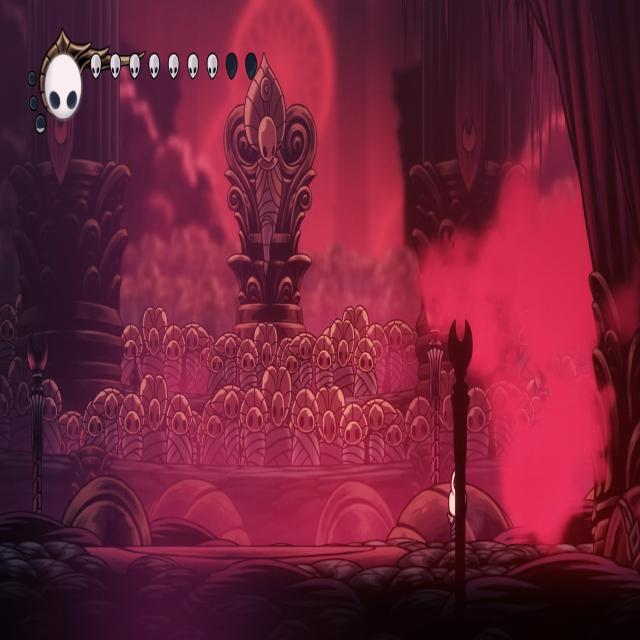Player: (443, 468, 471, 542)
